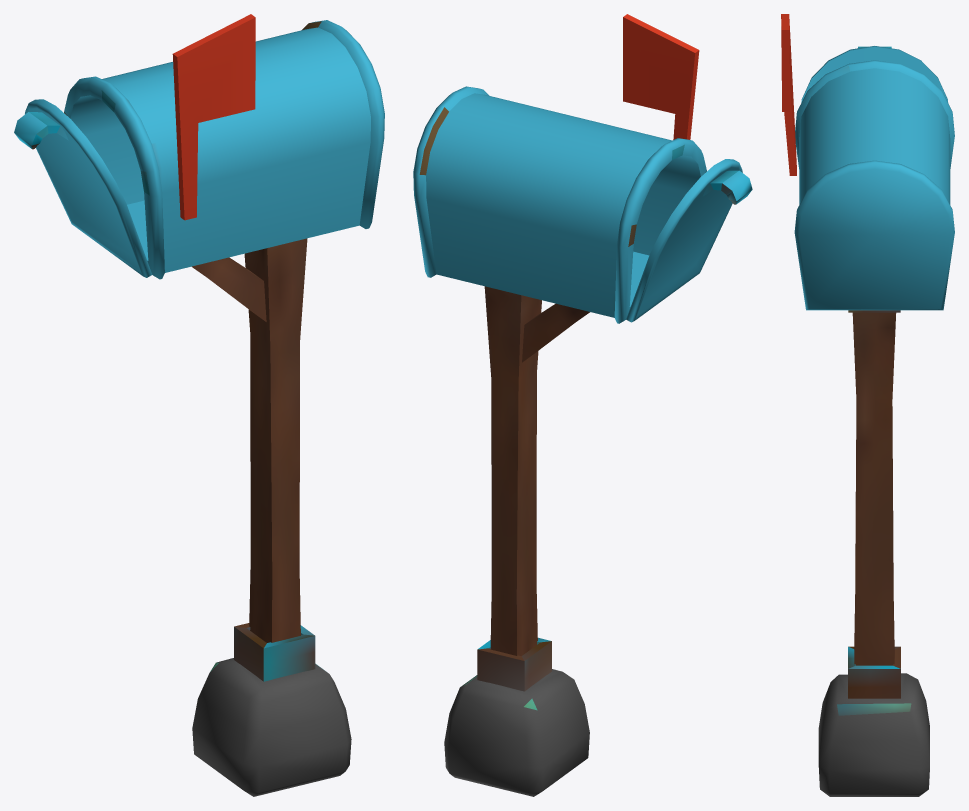
File: Mailbox.fbx
3 renders of one model, left to right at view 1: azimuth 30°, elevation 25°; view 2: azimuth 150°, elevation 25°; view 3: azimuth 270°, elevation 25°, orthographic. The views are drawn at different scales.
Parts seen in each view (by area): view 1: Mailbox; view 2: Mailbox; view 3: Mailbox.
Boxes of the visible parts, bbox=[...] form: Mailbox: bbox=[14, 14, 384, 796]; Mailbox: bbox=[413, 14, 752, 796]; Mailbox: bbox=[781, 14, 954, 796].
Size of the model in its own units: 18.11 by 43.1 by 9.45.
